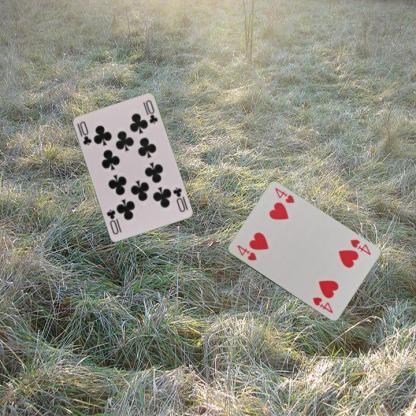10c: (169, 184, 189, 214), (76, 118, 92, 146)
4h: (347, 236, 372, 256), (234, 242, 258, 262)
